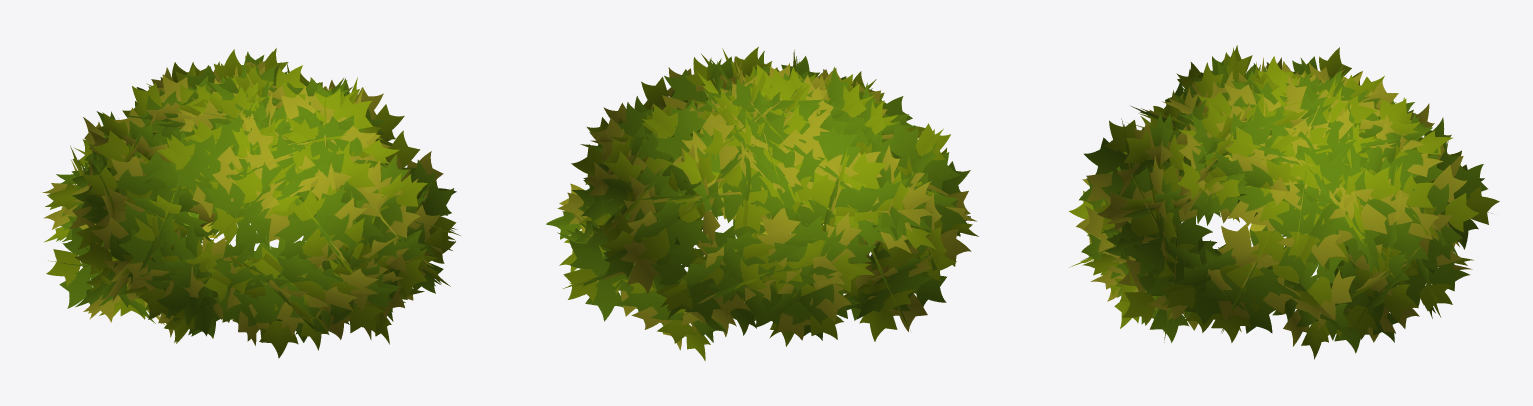
File: Bush.fbx
3 views of the same model, side by side, from view 1: azimuth 30°, elevation 25°; view 2: azimuth 150°, elevation 25°; view 3: azimuth 270°, elevation 25° (orthographic).
Visible parts, largest first — view 1: Bush; view 2: Bush; view 3: Bush.
Part boxes in pixels (x1,y1,x2,y2): Bush: (42, 48, 460, 358); Bush: (546, 46, 978, 361); Bush: (1069, 45, 1499, 359).
Bounding box in the file's own units: 300 × 195 × 294.
1 material, 1 textured.
